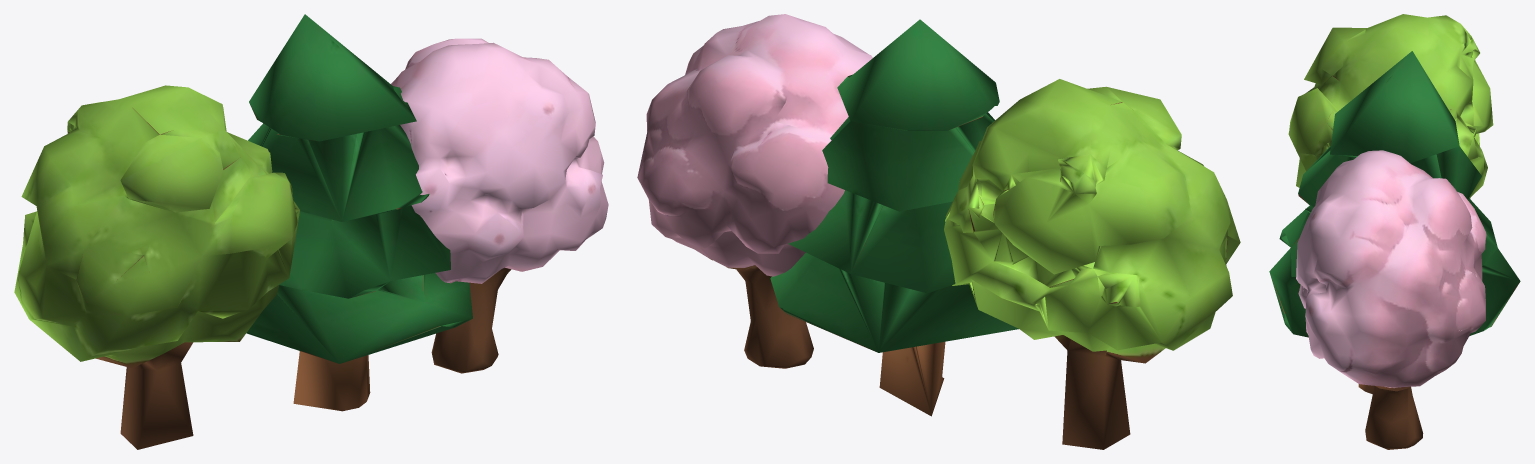
The model's file is trees.glb.
3 renders of one model, left to right at view 1: azimuth 30°, elevation 25°; view 2: azimuth 150°, elevation 25°; view 3: azimuth 270°, elevation 25°, orthographic. The views are drawn at different scales.
Parts seen in each view (by area): view 1: tree_round, tree_pine, tree_blossom; view 2: tree_round, tree_pine, tree_blossom; view 3: tree_blossom, tree_pine, tree_round.
Boxes of the visible parts, bbox=[...] form: tree_round: bbox=[14, 85, 299, 449]; tree_pine: bbox=[246, 14, 472, 411]; tree_blossom: bbox=[391, 38, 608, 373]; tree_round: bbox=[944, 79, 1240, 449]; tree_pine: bbox=[770, 19, 1018, 416]; tree_blossom: bbox=[637, 14, 872, 368]; tree_blossom: bbox=[1296, 150, 1486, 449]; tree_pine: bbox=[1269, 51, 1520, 393]; tree_round: bbox=[1288, 14, 1493, 198].
Bounding box in the file's own units: 7.25 × 4.78 × 3.24.
3 materials, 3 textured.
